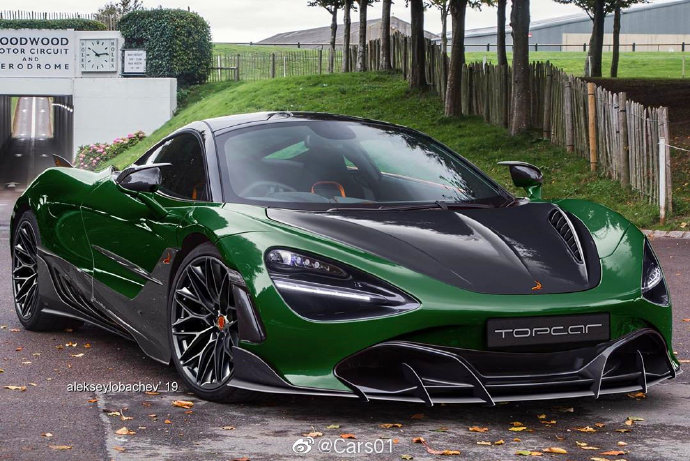su7: (19, 107, 683, 416)
